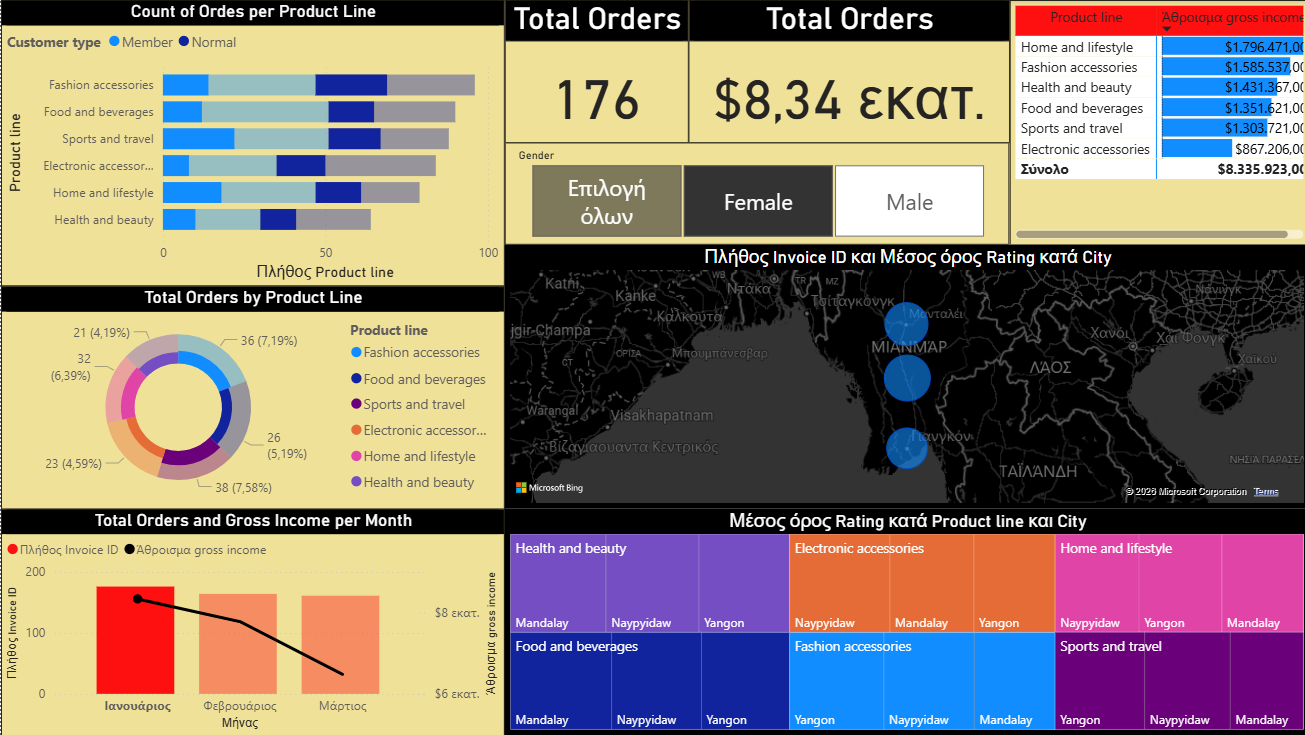

Layout of this report page (visuals, bound fields, positions):
{"tool":"powerbi","page":{"name":"Σελίδα 1","canvas":[1280,720],"ordinal":0},"visuals":[{"type":"barChart","title":"Count of Ordes per Product Line","fields":{"Series":["supermarket sales.Customer type"],"Category":["supermarket sales.Product line"],"Y":["CountNonNull(supermarket sales.Product line)"]},"box":[0,0,492.6,279.9],"z":0},{"type":"card","title":"Total Orders","fields":{"Values":["Count(supermarket sales.Invoice ID)"]},"box":[492.6,0,179.8,140],"z":1000},{"type":"card","title":"Total Orders","fields":{"Values":["Sum(supermarket sales.gross income)"]},"box":[672.4,0,314.2,140],"z":2000},{"type":"slicer","fields":{"Values":["supermarket sales.Gender"]},"box":[492.6,140,494,100.2],"z":3000},{"type":"donutChart","title":"Total Orders by Product Line","fields":{"Y":["CountNonNull(supermarket sales.Invoice ID)"],"Category":["supermarket sales.Product line"]},"box":[0,279.9,492.6,218.2],"z":4000},{"type":"lineClusteredColumnComboChart","title":"Total Orders and Gross Income per Month","fields":{"Category":["supermarket sales.Date.Παραλλαγή.Ιεραρχία ημερομηνιών.Μήνας","supermarket sales.Date.Παραλλαγή.Ιεραρχία ημερομηνιών.Ημέρα"],"Y":["CountNonNull(supermarket sales.Invoice ID)"],"Y2":["Sum(supermarket sales.gross income)"]},"box":[0,498.1,492.6,222.3],"z":5000},{"type":"pivotTable","fields":{"Values":["Sum(supermarket sales.gross income)"],"Rows":["supermarket sales.Product line"]},"box":[986.6,0,293.7,240.1],"z":6000},{"type":"treemap","fields":{"Group":["supermarket sales.Product line"],"Values":["Avg(supermarket sales.Rating)"],"Details":["supermarket sales.City"]},"box":[492.6,498.1,787.7,222.3],"z":7000},{"type":"map","fields":{"Category":["supermarket sales.City"],"Size":["CountNonNull(supermarket sales.Invoice ID)"]},"box":[492.6,240.1,787.7,258],"z":8000}]}

Visuals, with their boxes in screenshot pixels (x1, y1, x2, y2), scaled from the page's 1280x720 canvas onto the 1305x735 screenshot:
"Count of Ordes per Product Line" barChart: left=0, top=0, right=502, bottom=286
"Total Orders" card: left=502, top=0, right=686, bottom=143
"Total Orders" card: left=686, top=0, right=1006, bottom=143
slicer - supermarket sales.Gender: left=502, top=143, right=1006, bottom=245
"Total Orders by Product Line" donutChart: left=0, top=286, right=502, bottom=508
"Total Orders and Gross Income per Month" lineClusteredColumnComboChart: left=0, top=508, right=502, bottom=734
pivotTable - Sum(supermarket sales.gross income) x supermarket sales.Product line: left=1006, top=0, right=1304, bottom=245
treemap - supermarket sales.Product line x Avg(supermarket sales.Rating): left=502, top=508, right=1304, bottom=734
map - supermarket sales.City x CountNonNull(supermarket sales.Invoice ID): left=502, top=245, right=1304, bottom=508
